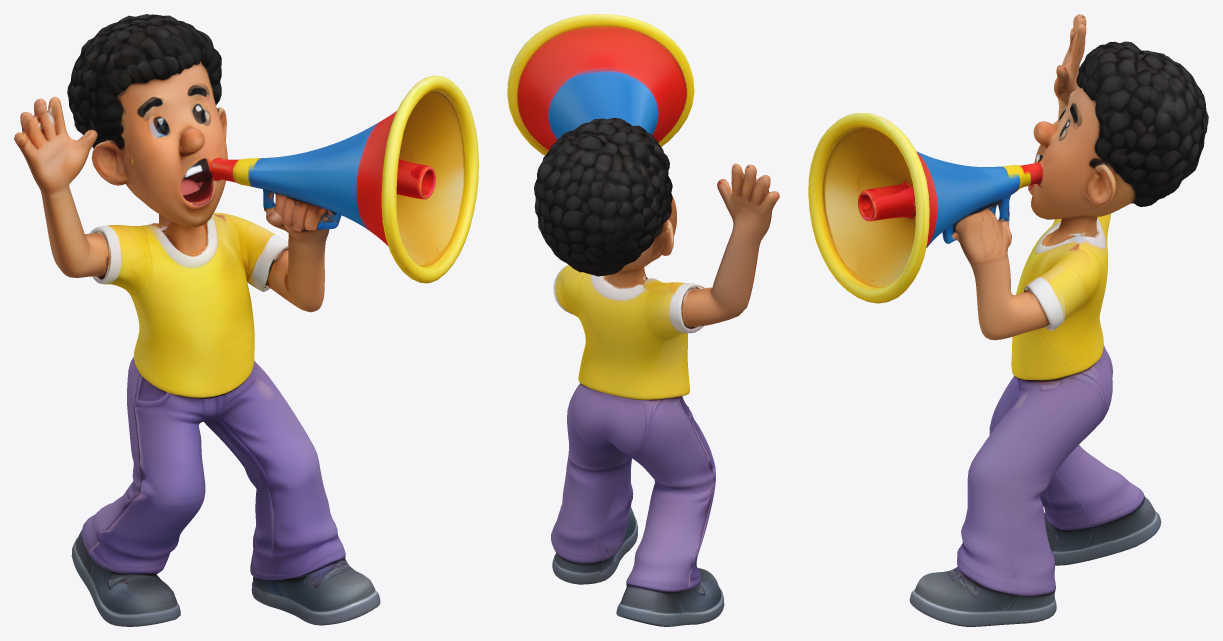
The model's file is hombreMegafono.glb.
3 views of the same model, side by side, from view 1: azimuth 30°, elevation 25°; view 2: azimuth 150°, elevation 25°; view 3: azimuth 270°, elevation 25° (orthographic). The views are drawn at different scales.
Parts seen in each view (by area): view 1: model; view 2: model; view 3: model.
Boxes of the visible parts, x1=… form: model: x1=14, y1=14, x2=478, y2=626; model: x1=507, y1=14, x2=779, y2=626; model: x1=808, y1=14, x2=1208, y2=626.
Size of the model in its own units: 1.36 by 1.9 by 1.31.
Materials: 1 (1 with a texture image).
